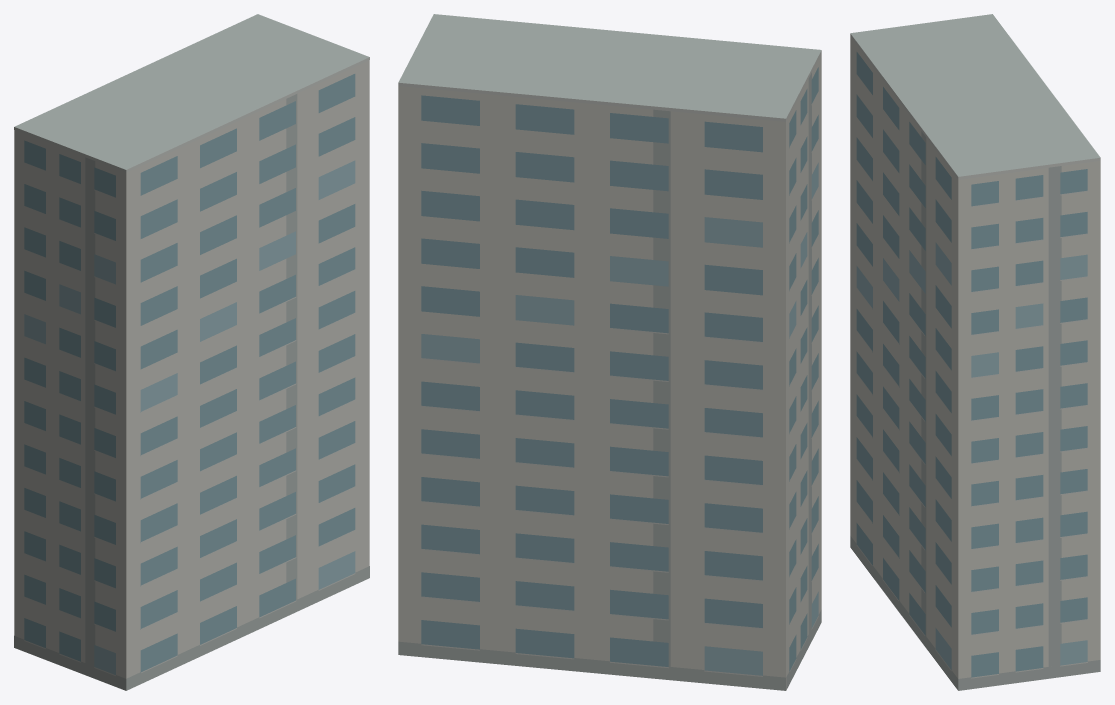
Rendered from residential-523b5eb5-3b1f-4146-a066-5ba5987a9186.glb.
3 views of the same model, side by side, from view 1: azimuth 30°, elevation 25°; view 2: azimuth 150°, elevation 25°; view 3: azimuth 270°, elevation 25° (orthographic). The views are drawn at different scales.
Parts seen in each view (by area): view 1: residential-523b5eb5-3b1f-4146-a066-5ba5987a9186.tmp; view 2: residential-523b5eb5-3b1f-4146-a066-5ba5987a9186.tmp; view 3: residential-523b5eb5-3b1f-4146-a066-5ba5987a9186.tmp.
Boxes of the visible parts, bbox=[...] form: residential-523b5eb5-3b1f-4146-a066-5ba5987a9186.tmp: bbox=[14, 14, 369, 690]; residential-523b5eb5-3b1f-4146-a066-5ba5987a9186.tmp: bbox=[398, 14, 821, 690]; residential-523b5eb5-3b1f-4146-a066-5ba5987a9186.tmp: bbox=[850, 14, 1100, 690].
Size of the model in its own units: 28.55 by 42 by 18.56.
